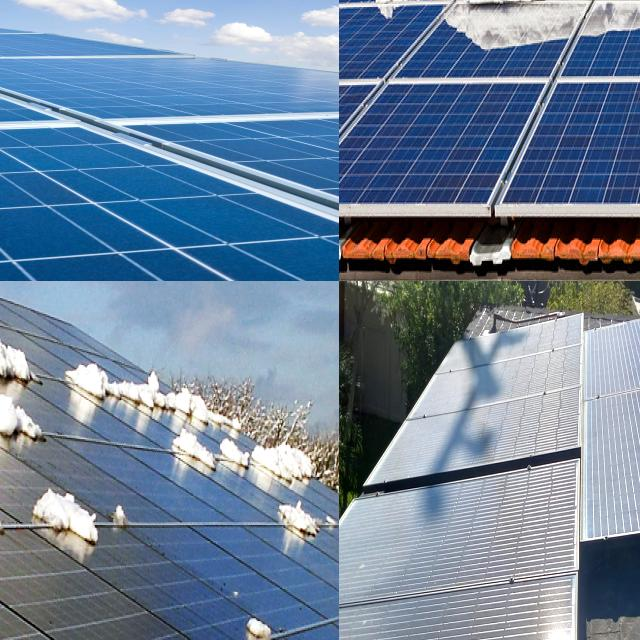crack: (0, 127, 339, 281)
dust: (347, 505, 442, 640), (440, 358, 520, 479), (390, 454, 450, 592)
panel: (432, 0, 608, 67), (49, 349, 138, 421), (129, 360, 233, 420), (30, 467, 99, 557), (256, 435, 339, 499), (0, 357, 47, 452), (0, 349, 58, 420), (0, 310, 52, 389), (176, 431, 256, 482), (473, 0, 592, 30), (0, 397, 59, 452), (108, 461, 146, 543), (0, 281, 43, 353), (454, 0, 571, 26), (280, 496, 339, 546), (0, 281, 49, 326), (239, 595, 283, 640), (598, 0, 640, 30), (0, 490, 24, 540), (339, 0, 368, 39), (339, 0, 393, 20), (586, 0, 640, 18), (367, 0, 403, 26), (379, 0, 428, 14)
